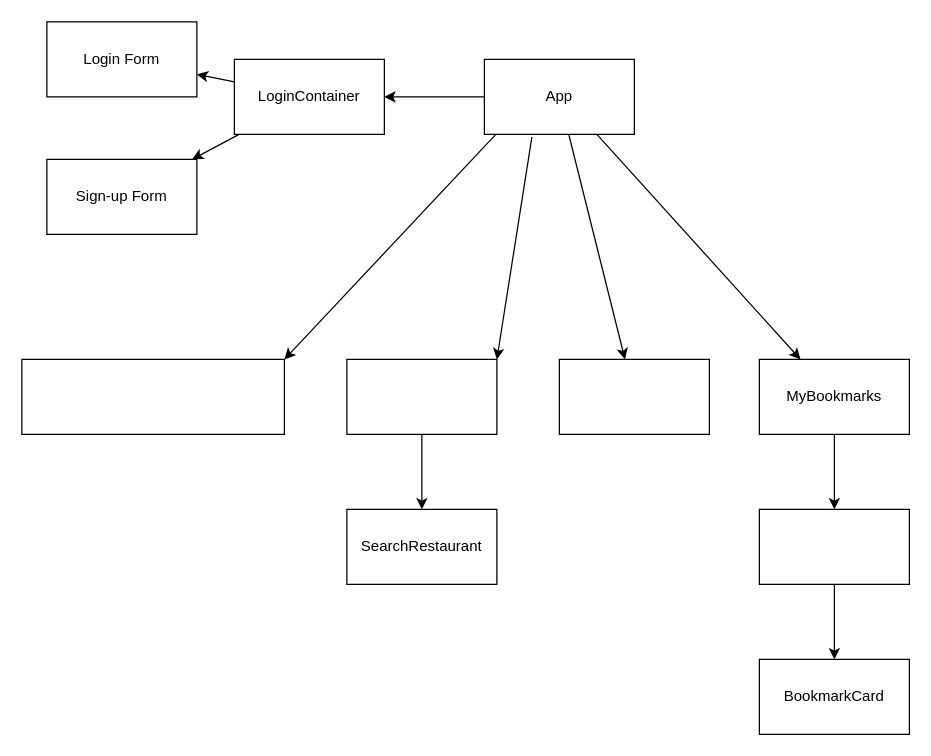
Image size: 931x756. Some labels were removed from this diagram. Each missing label, with the centre of its shape:
"About" belongs at pixel 633 396.
"BookmarkList" belongs at pixel 833 546.
"Home Search" belongs at pixel 421 396.
"NavBar Home, About, MyBookmarks" belongs at pixel 152 396.
